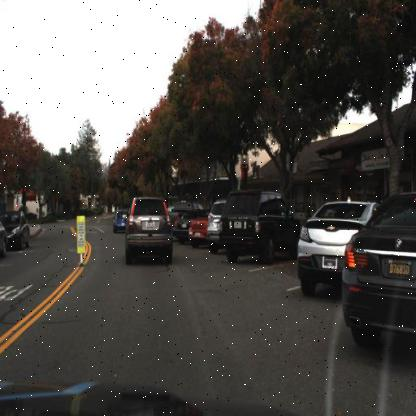car: (343, 191, 415, 353), (294, 193, 378, 299), (216, 184, 303, 263), (119, 194, 174, 268), (205, 191, 229, 252), (174, 200, 207, 244), (191, 208, 220, 250), (3, 210, 30, 254), (111, 207, 130, 237)
